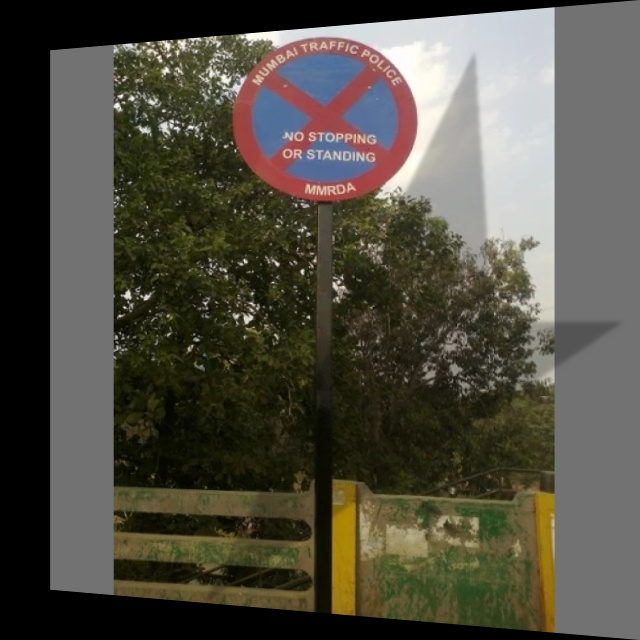No_Stopping_or_Standing: (234, 24, 425, 214)
